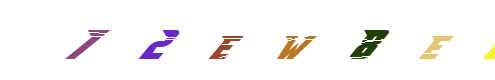2: (119, 0, 199, 80)
7: (70, 0, 150, 80)
8: (329, 0, 409, 80)
E: (205, 0, 285, 80), (349, 0, 429, 80), (414, 0, 494, 80)
W: (224, 0, 304, 80)
